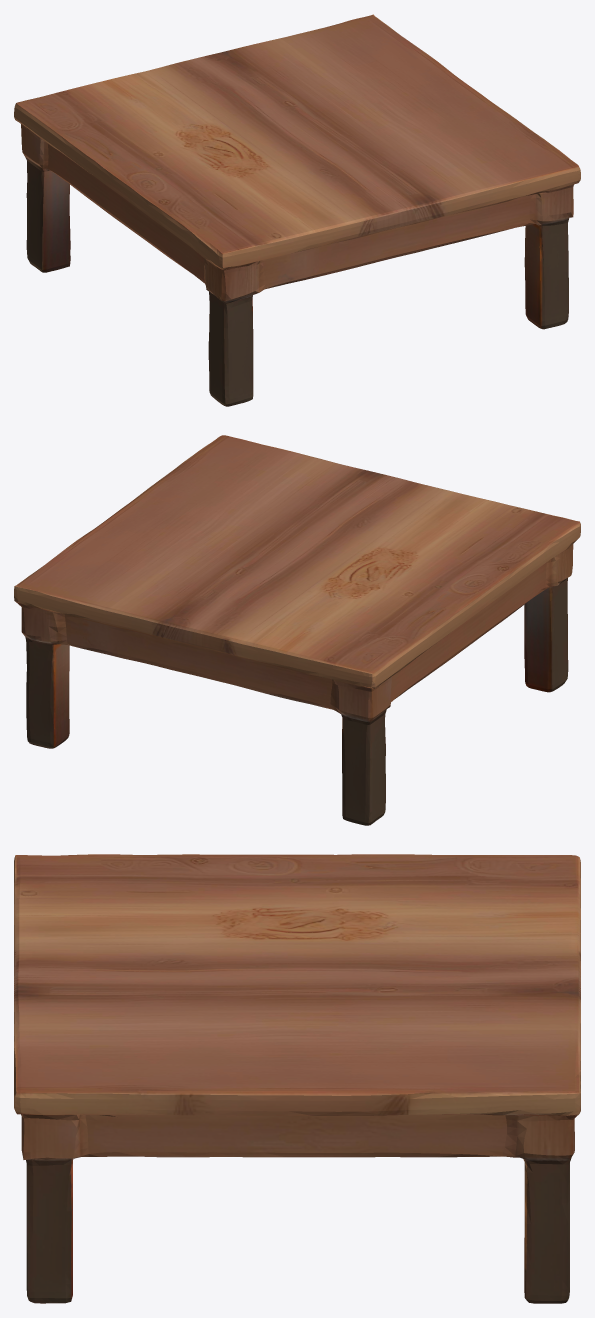
The model's file is table2.glb.
3 renders of one model, top to bottom at view 1: azimuth 30°, elevation 25°; view 2: azimuth 150°, elevation 25°; view 3: azimuth 270°, elevation 25°, orthographic. The views are drawn at different scales.
Parts seen in each view (by area): view 1: tripo_node_d62f0bc0-610c-4601-87d8-539566b7d1a8; view 2: tripo_node_d62f0bc0-610c-4601-87d8-539566b7d1a8; view 3: tripo_node_d62f0bc0-610c-4601-87d8-539566b7d1a8.
Part boxes in pixels (x1,y1,x2,y2): tripo_node_d62f0bc0-610c-4601-87d8-539566b7d1a8: (14,14,580,406); tripo_node_d62f0bc0-610c-4601-87d8-539566b7d1a8: (14,435,580,825); tripo_node_d62f0bc0-610c-4601-87d8-539566b7d1a8: (14,854,580,1303).
Size of the model in its own units: 0.9998 by 0.4263 by 0.9995.
1 material, 1 textured.
